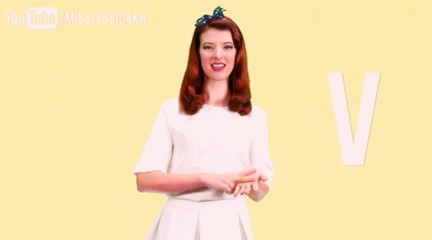V: (205, 158, 268, 200)
